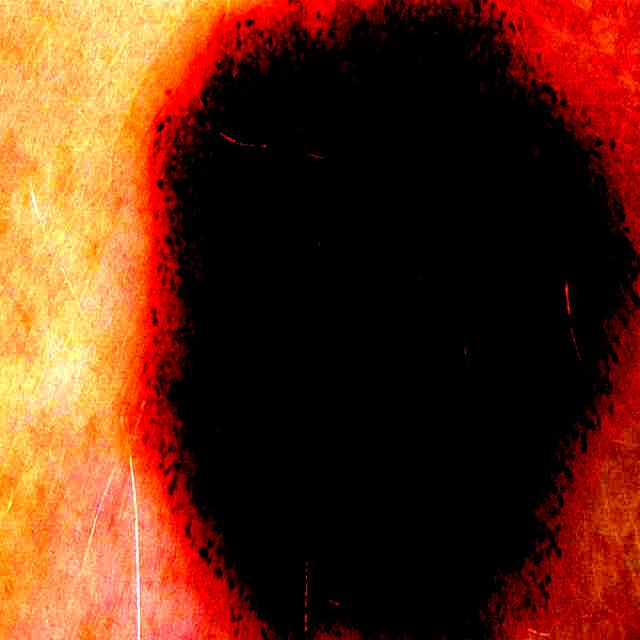NV: (145, 3, 640, 638)
